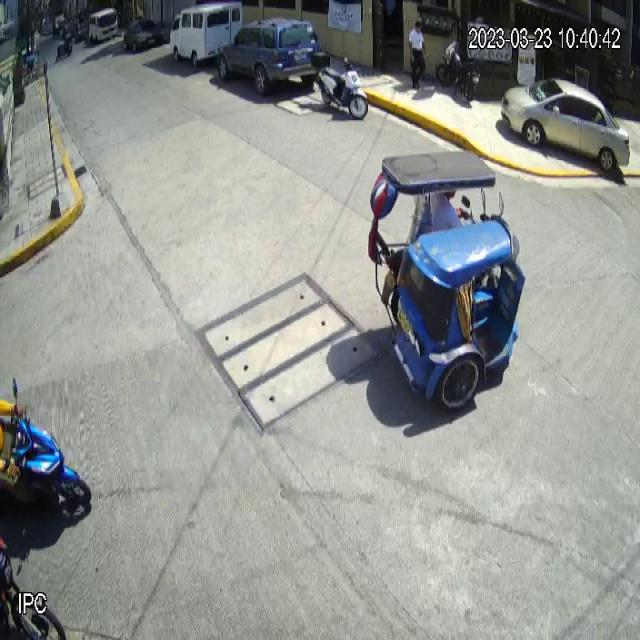Car: (501, 79, 631, 172), (216, 15, 322, 97)
Motorcycle: (0, 375, 92, 506), (312, 51, 368, 120)
Tricycle: (374, 148, 526, 412)
Van: (169, 0, 243, 67)
